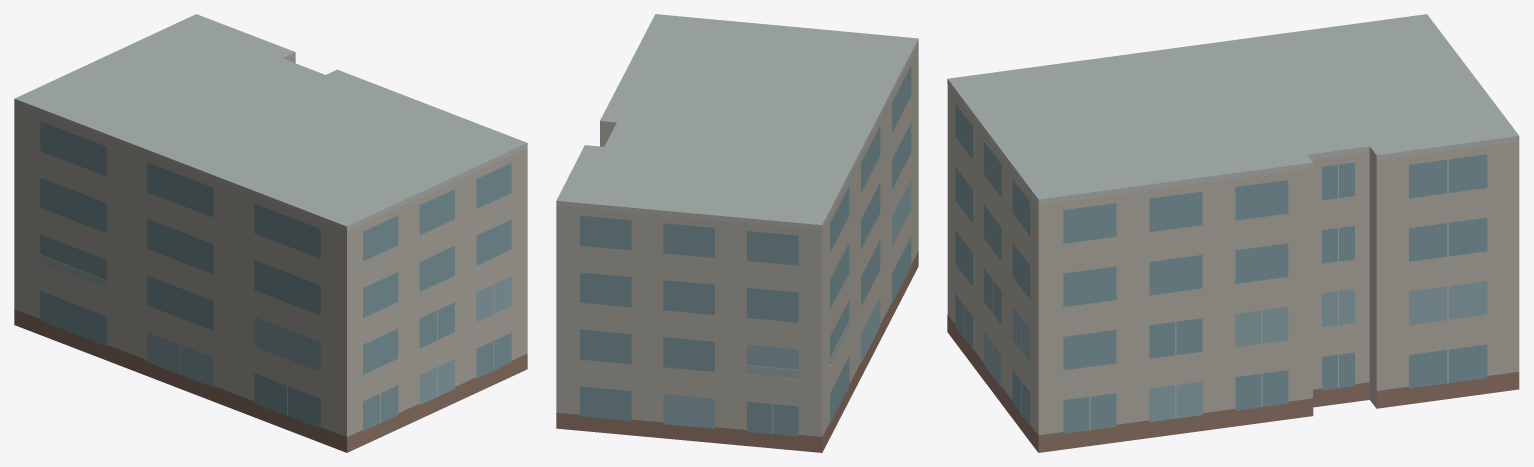
The model's file is survey-upis-33028315.glb.
The picture shows the model from 3 angles, left to right: view 1: azimuth 30°, elevation 25°; view 2: azimuth 150°, elevation 25°; view 3: azimuth 270°, elevation 25°; orthographic projection. The views are drawn at different scales.
Parts seen in each view (by area): view 1: survey-upis-33028315.tmp; view 2: survey-upis-33028315.tmp; view 3: survey-upis-33028315.tmp.
Boxes of the visible parts, box(x1,y1,x2,y2) form: survey-upis-33028315.tmp: box(14, 14, 527, 452); survey-upis-33028315.tmp: box(556, 14, 918, 452); survey-upis-33028315.tmp: box(947, 14, 1519, 452).
Size of the model in its own units: 17.51 by 11.15 by 22.81.
